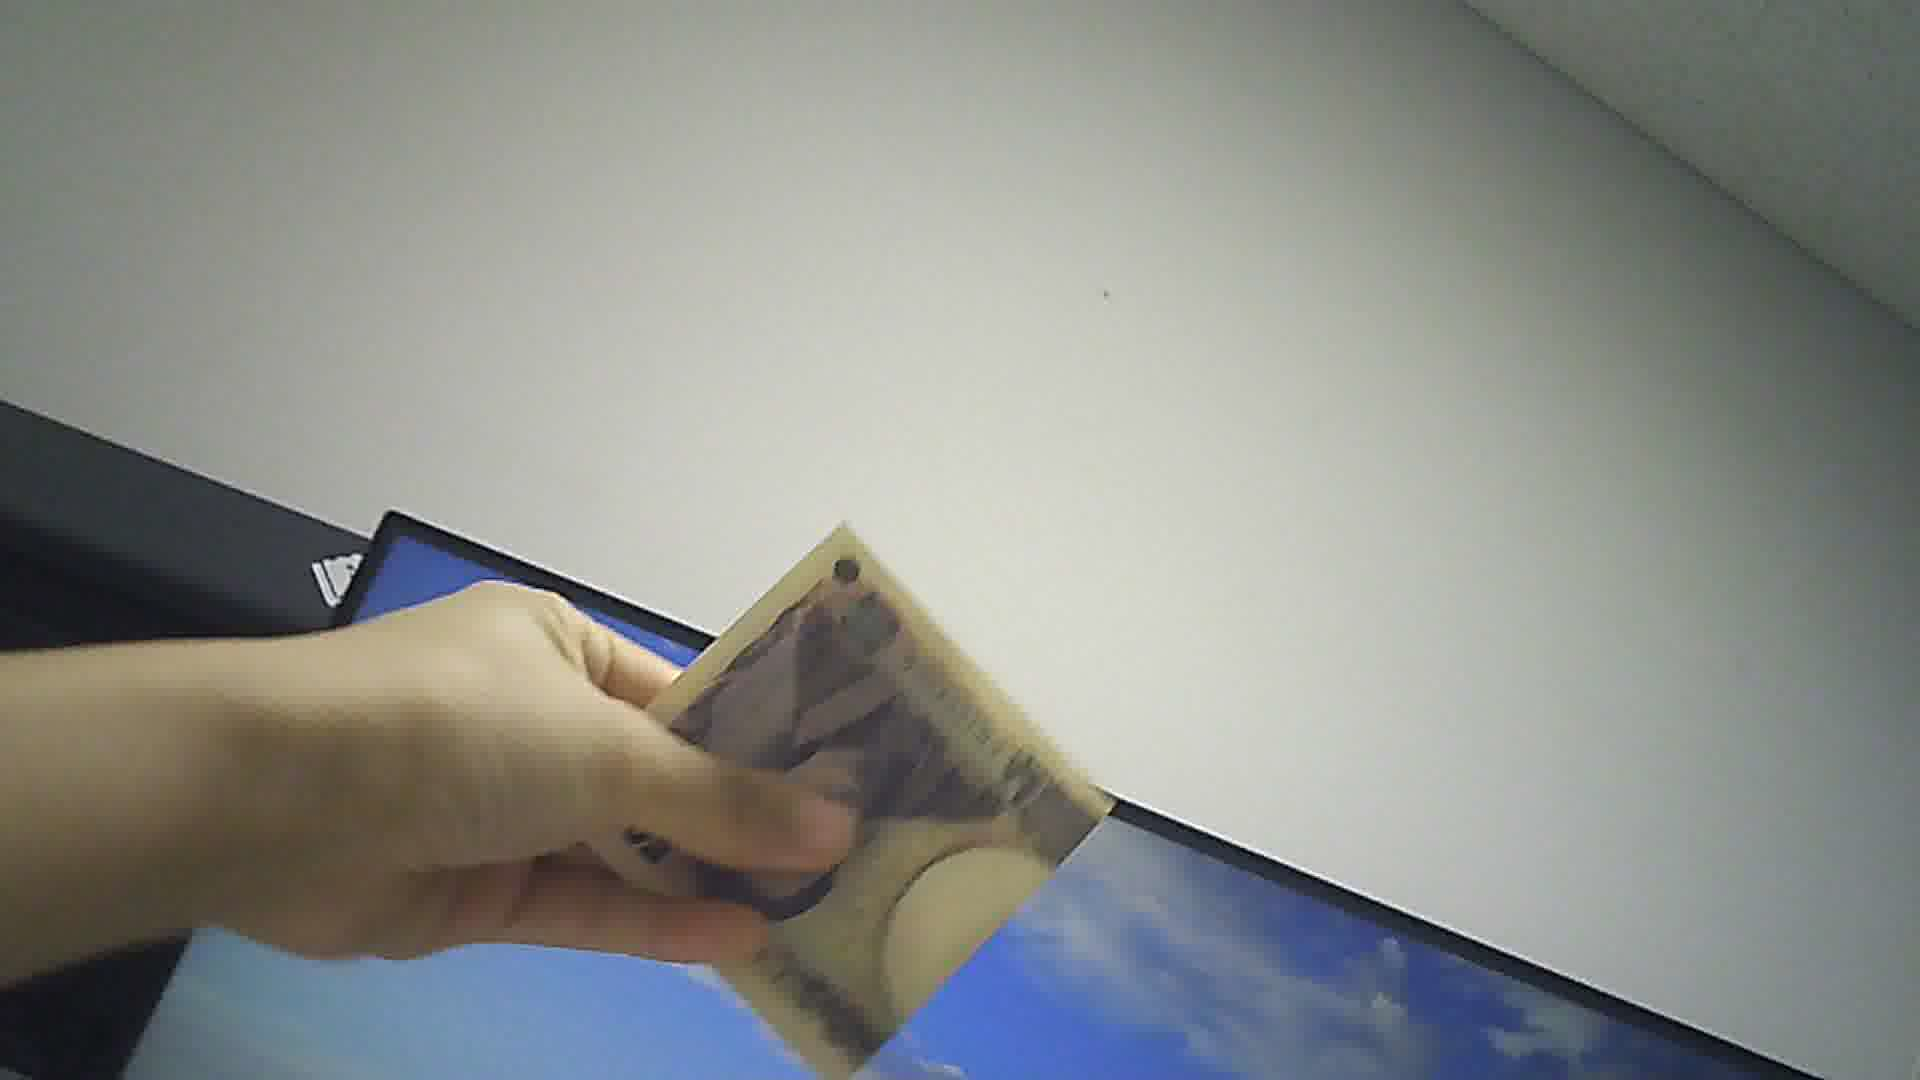5,000 Yen: (585, 524, 1106, 1079)
